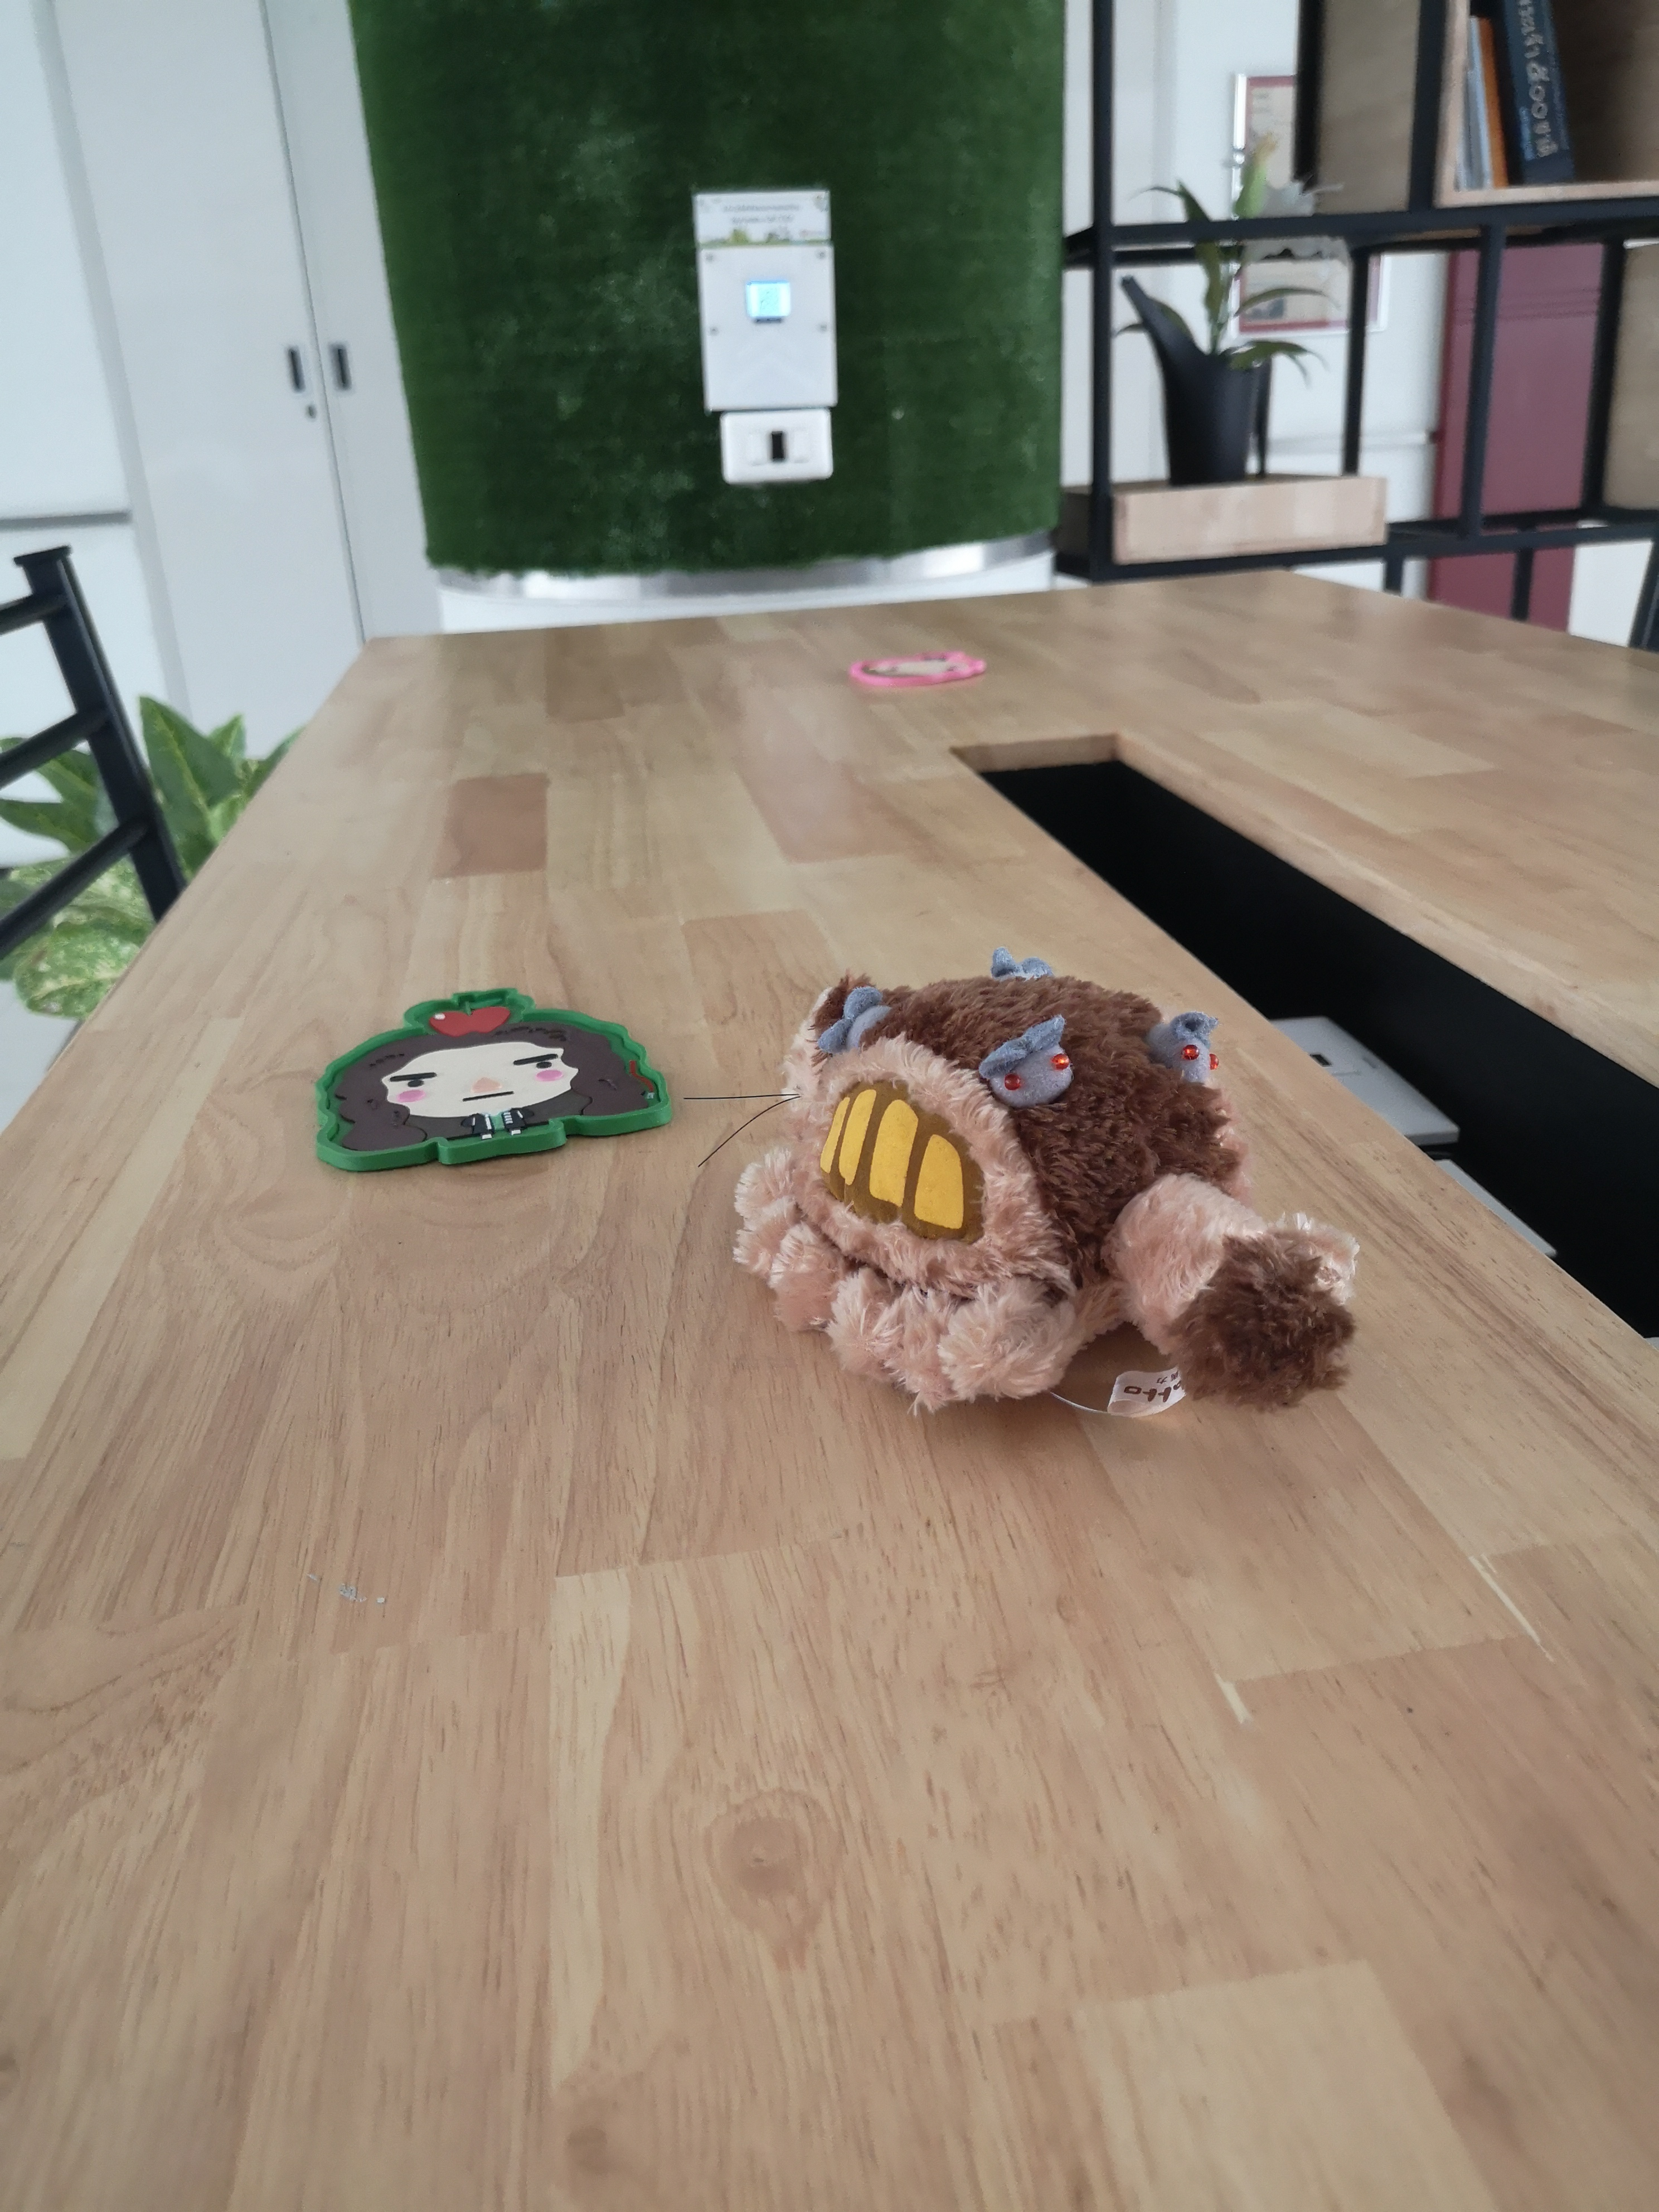nekobus: (711, 935, 1391, 1430)
